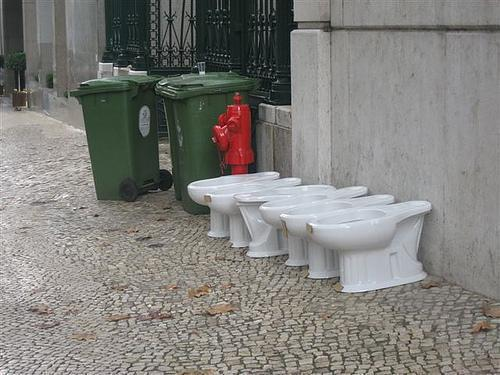Bote de Basura: (157, 69, 269, 214), (89, 62, 159, 198)
